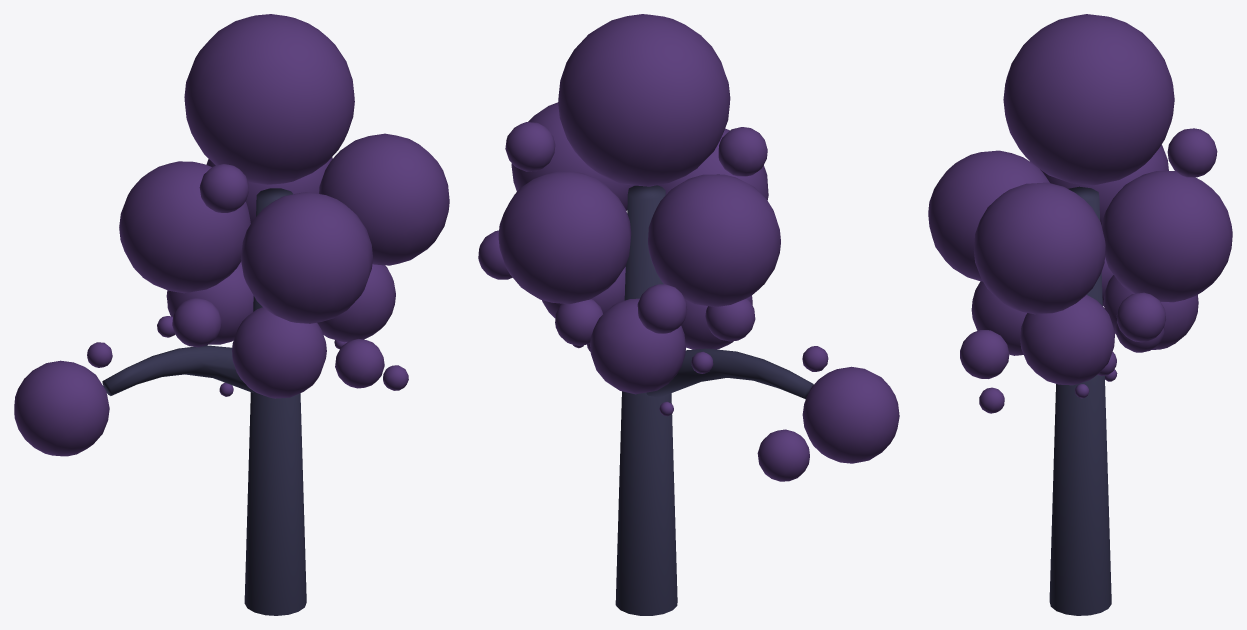
The model's file is sphere_tree_1.glb.
The picture shows the model from 3 angles, left to right: view 1: azimuth 30°, elevation 25°; view 2: azimuth 150°, elevation 25°; view 3: azimuth 270°, elevation 25°; orthographic projection.
Parts seen in each view (by area): view 1: Circle_Tree.001; view 2: Circle_Tree.001; view 3: Circle_Tree.001.
Part boxes in pixels (x1,y1,x2,y2): Circle_Tree.001: (14, 14, 449, 615); Circle_Tree.001: (478, 14, 899, 615); Circle_Tree.001: (928, 14, 1232, 615).
Bounding box in the file's own units: 14.57 × 20.4 × 9.71.
